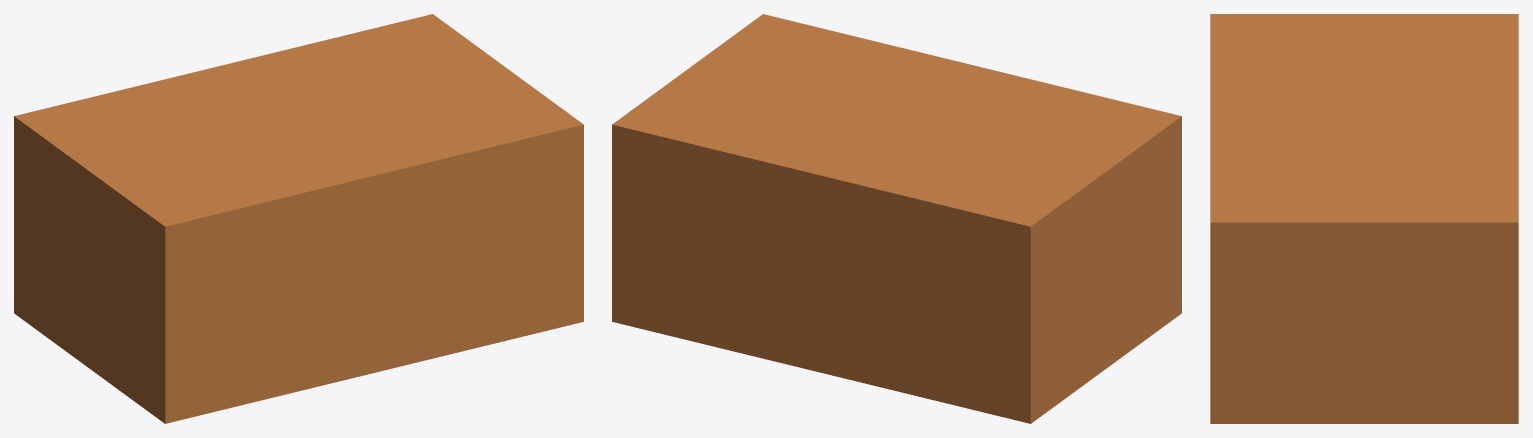
Rendered from shopping-basket.glb.
3 views of the same model, side by side, from view 1: azimuth 30°, elevation 25°; view 2: azimuth 150°, elevation 25°; view 3: azimuth 270°, elevation 25° (orthographic). The views are drawn at different scales.
Parts seen in each view (by area): view 1: Basket; view 2: Basket; view 3: Basket.
Part boxes in pixels (x1,y1,x2,y2): Basket: [14, 14, 583, 423]; Basket: [612, 14, 1181, 423]; Basket: [1210, 14, 1518, 423].
Size of the model in its own units: 0.8 by 0.36 by 0.5.
